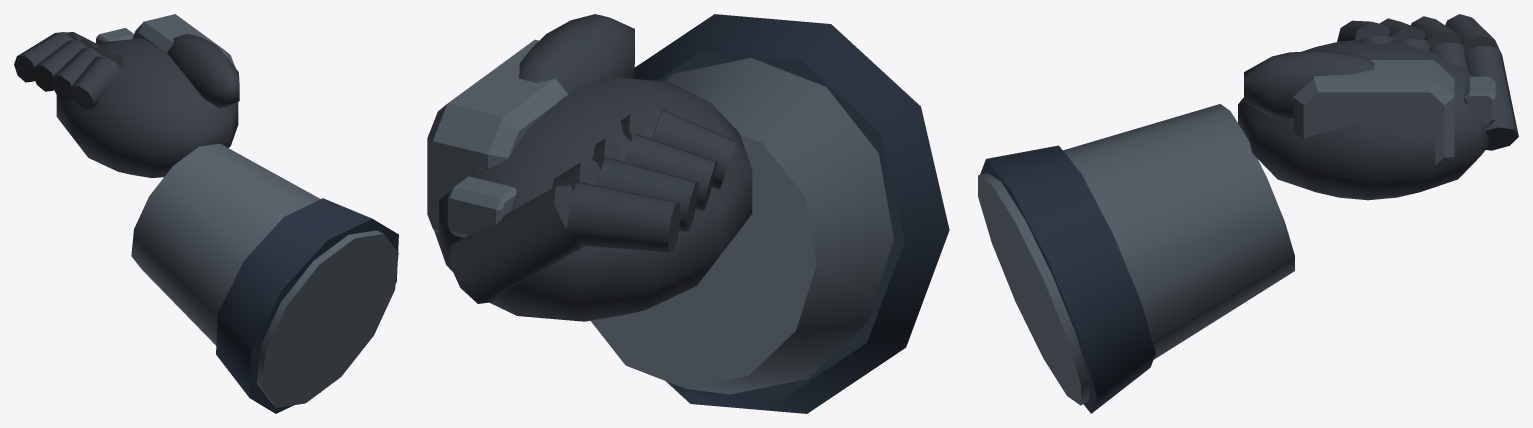
The model's file is aster_carbine_grip.glb.
3 views of the same model, side by side, from view 1: azimuth 30°, elevation 25°; view 2: azimuth 150°, elevation 25°; view 3: azimuth 270°, elevation 25° (orthographic). The views are drawn at different scales.
Visible parts, largest first — view 1: aster_carbine_grip; view 2: aster_carbine_grip; view 3: aster_carbine_grip.
Boxes of the visible parts, x1,y1,x2,y2 form: aster_carbine_grip: [14, 14, 398, 413]; aster_carbine_grip: [427, 14, 949, 413]; aster_carbine_grip: [978, 14, 1518, 413].
Bounding box in the file's own units: 0.1994 × 0.2501 × 0.3532.
